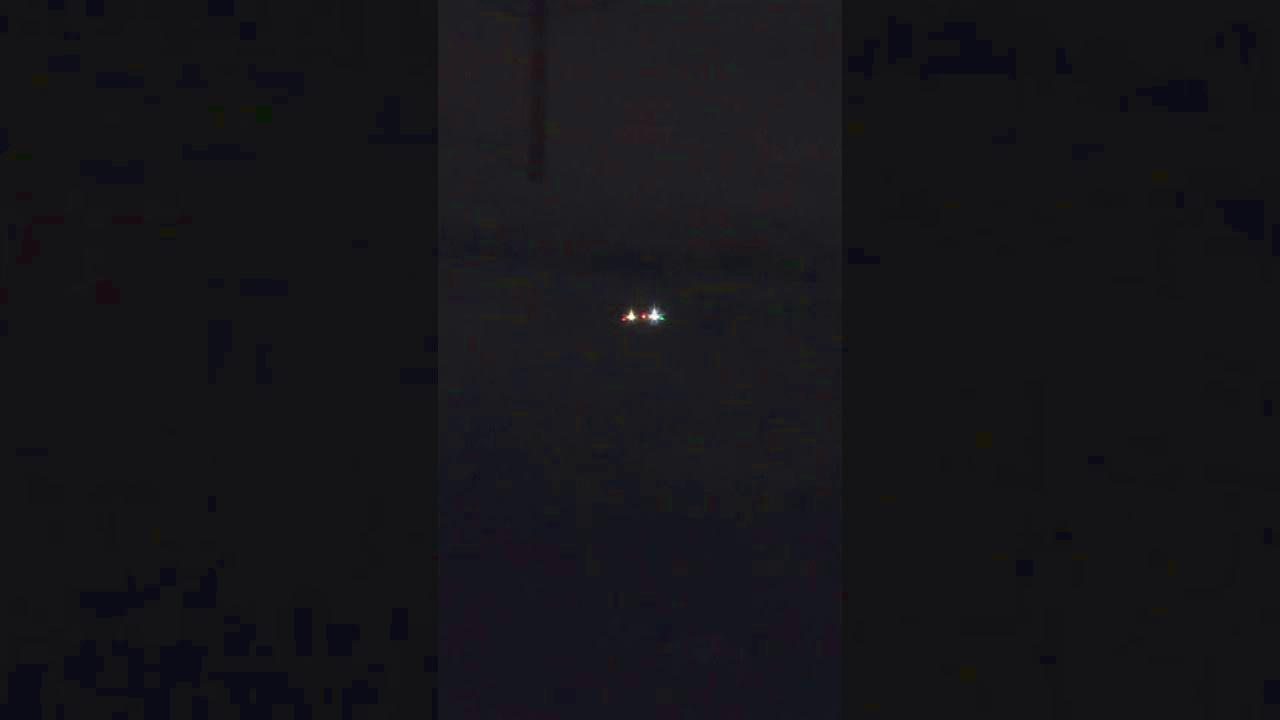Plane: (584, 288, 704, 348)
